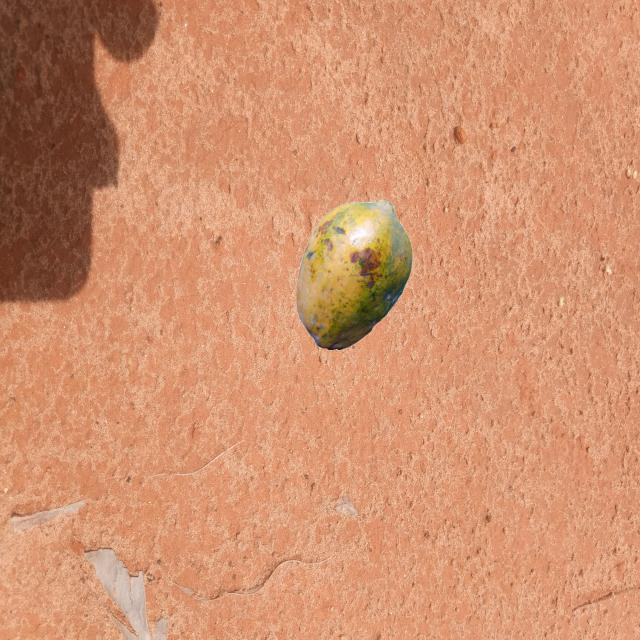Pepaya rippen: (289, 187, 414, 354)
